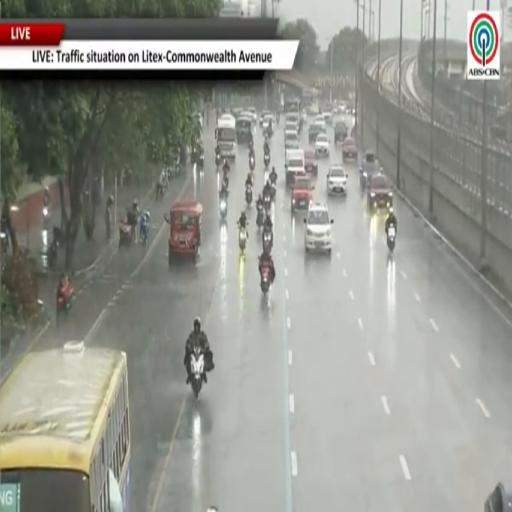bus: (0, 342, 130, 511), (216, 116, 236, 158), (302, 89, 317, 107)
car: (304, 203, 333, 253), (367, 174, 392, 212), (291, 174, 314, 213), (360, 151, 382, 189), (484, 483, 511, 511), (285, 150, 305, 185), (327, 165, 347, 196), (314, 133, 330, 157), (342, 137, 357, 162), (304, 149, 318, 175), (334, 120, 348, 143), (309, 123, 325, 143), (286, 112, 300, 133), (285, 131, 299, 149), (261, 114, 275, 130), (322, 104, 333, 124), (259, 110, 271, 126), (314, 115, 326, 131), (193, 112, 203, 129), (247, 107, 257, 123), (284, 121, 296, 132), (232, 107, 243, 118)
motorcycle: (56, 280, 73, 322), (190, 347, 204, 398), (47, 227, 60, 269), (119, 220, 132, 248), (261, 264, 270, 294), (0, 231, 9, 257), (387, 226, 396, 252), (262, 231, 272, 254), (141, 221, 149, 246), (256, 205, 264, 229), (239, 227, 247, 251), (156, 182, 166, 200), (263, 194, 271, 214), (220, 199, 227, 220), (246, 185, 253, 205), (197, 153, 203, 170), (249, 155, 255, 171), (222, 176, 229, 189), (264, 153, 270, 168), (271, 182, 276, 200), (215, 153, 221, 167), (270, 173, 276, 186), (264, 144, 270, 155)
tricycle: (164, 201, 202, 265), (56, 275, 73, 322)
